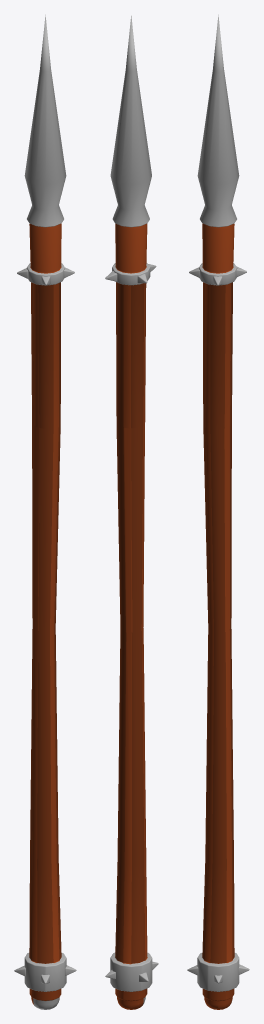
File: obj_MultiplierGate_PoleSpear.fbx
The picture shows the model from 3 angles, left to right: view 1: azimuth 90°, elevation 25°; view 2: azimuth 210°, elevation 25°; view 3: azimuth 270°, elevation 25°; orthographic projection.
Parts seen in each view (by area): view 1: Cylinder; view 2: Cylinder; view 3: Cylinder.
Boxes of the visible parts, x1=… form: Cylinder: x1=14, y1=14, x2=76, y2=1009; Cylinder: x1=105, y1=15, x2=158, y2=1009; Cylinder: x1=187, y1=14, x2=249, y2=1009.
Size of the model in its own units: 0.3802 by 0.3862 by 6.81.
